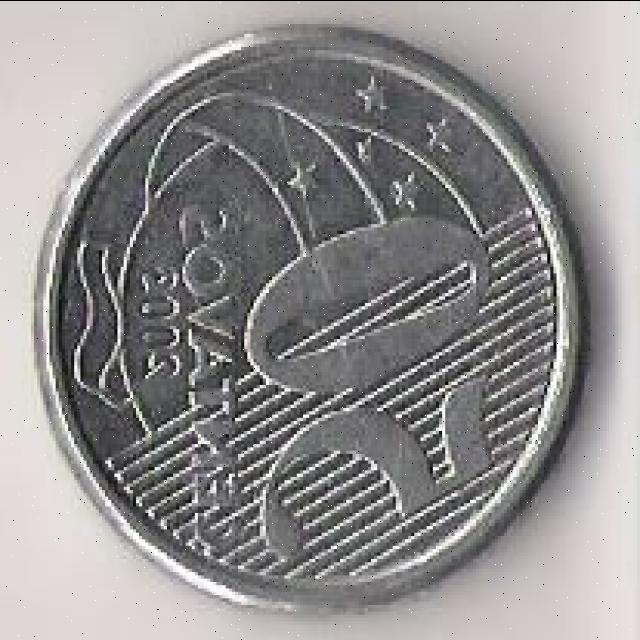50 cent: (31, 19, 590, 617)
